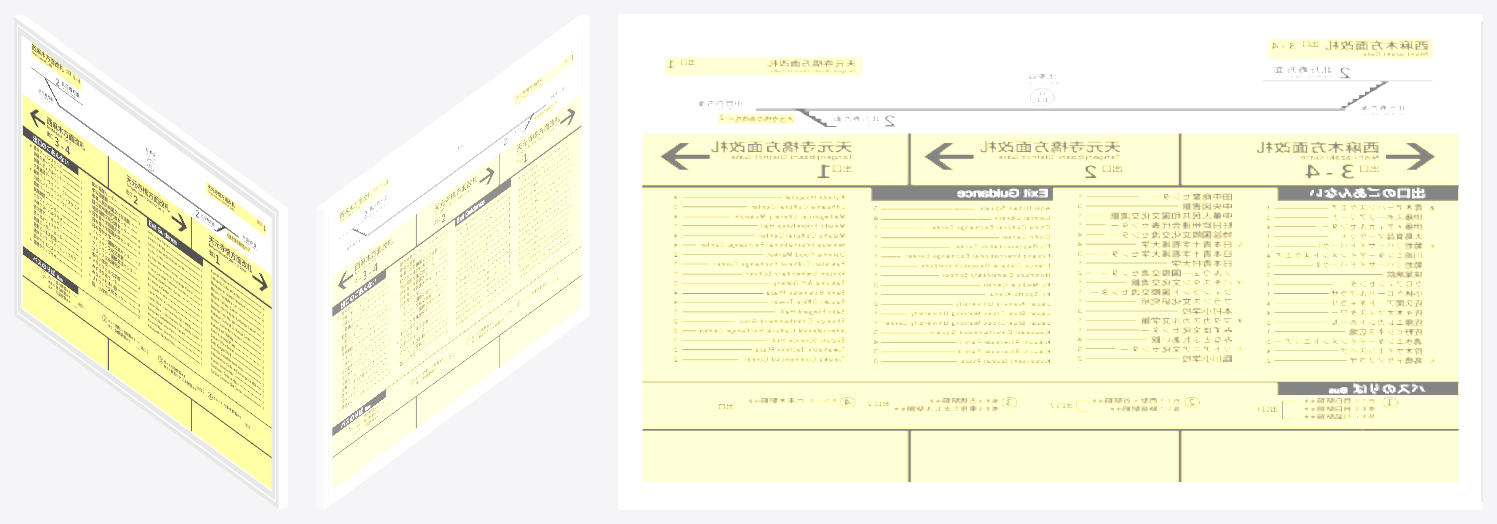
File: SM_MetroAd_01.fbx
The picture shows the model from 3 angles, left to right: view 1: azimuth 30°, elevation 25°; view 2: azimuth 150°, elevation 25°; view 3: azimuth 270°, elevation 25°; orthographic projection. The views are drawn at different scales.
Visible parts, largest first — view 1: SM_MetroAd_01_LOD0; view 2: SM_MetroAd_01_LOD0; view 3: SM_MetroAd_01_LOD0.
Boxes of the visible parts, x1,y1,x2,y2 form: SM_MetroAd_01_LOD0: [14, 14, 287, 509]; SM_MetroAd_01_LOD0: [316, 14, 589, 509]; SM_MetroAd_01_LOD0: [618, 14, 1482, 509].
Bounding box in the file's own units: 3 × 160 × 100.
